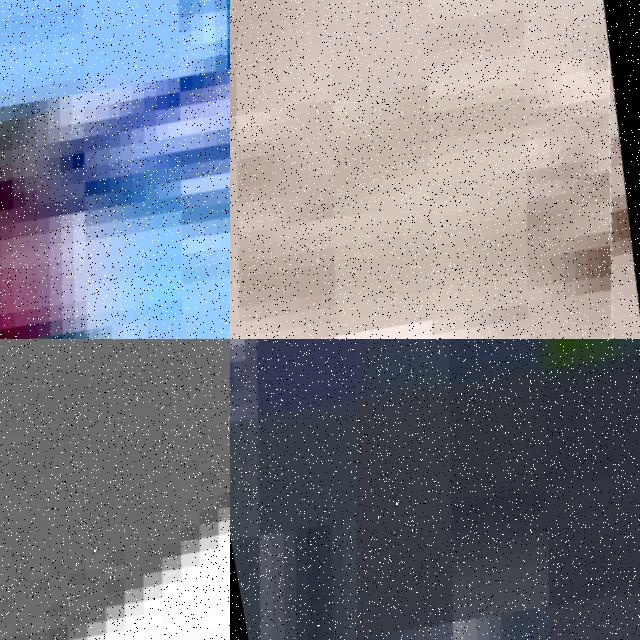drone: (230, 0, 640, 339), (230, 339, 640, 640), (0, 0, 230, 339), (0, 339, 230, 640)
